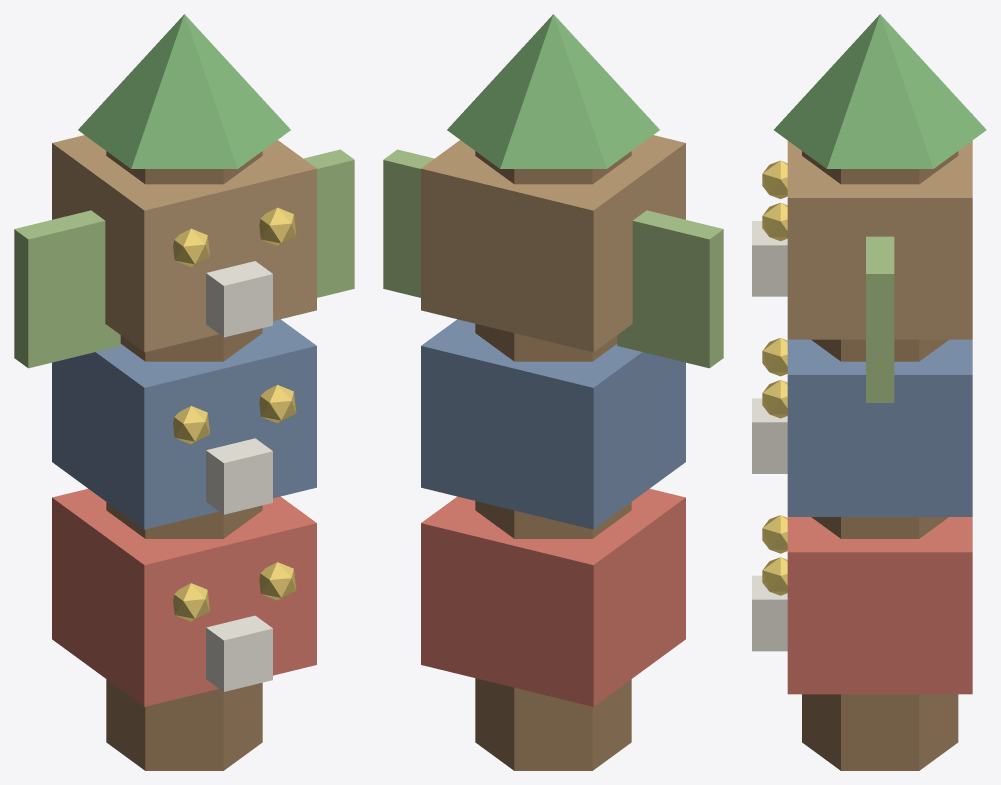
Rendered from totem.glb.
3 views of the same model, side by side, from view 1: azimuth 30°, elevation 25°; view 2: azimuth 150°, elevation 25°; view 3: azimuth 270°, elevation 25° (orthographic).
Parts seen in each view (by area): view 1: mask, mask.001, mask.002, cap.001, post.005, wing, wing.001, beak.002, beak, beak.001, eye.005, eye.002 (+4 smaller); view 2: mask, mask.001, mask.002, cap.001, post.005, wing, wing.001; view 3: mask, mask.001, mask.002, cap.001, post.005, wing.001, beak, beak.002, beak.001, eye, eye.005, eye.001 (+3 smaller).
Part boxes in pixels (x1,y1,x2,y2): mask: (52, 488, 316, 706); mask.001: (52, 319, 316, 529); mask.002: (52, 135, 316, 352); cap.001: (78, 14, 290, 168); post.005: (106, 151, 262, 770); wing: (14, 210, 120, 368); wing.001: (303, 149, 354, 297); beak.002: (206, 261, 272, 337); beak: (206, 615, 272, 691); beak.001: (206, 438, 272, 514); eye.005: (259, 207, 296, 245); eye.002: (173, 406, 209, 444); mask: (421, 488, 685, 706); mask.001: (421, 319, 685, 529); mask.002: (421, 135, 685, 352); cap.001: (447, 14, 659, 168); post.005: (475, 151, 631, 770); wing: (617, 210, 723, 368); wing.001: (383, 149, 434, 297); mask: (787, 517, 972, 694); mask.001: (787, 339, 972, 516); mask.002: (787, 113, 972, 339); cap.001: (774, 14, 986, 168); post.005: (802, 151, 958, 770); wing.001: (866, 236, 894, 402); beak: (752, 575, 787, 651); beak.002: (752, 221, 787, 296); beak.001: (752, 398, 787, 473); eye: (762, 515, 787, 553); eye.005: (762, 202, 787, 241); eye.001: (762, 557, 787, 595).
Bounding box in the file's own units: 1.06 × 2.26 × 0.66.
